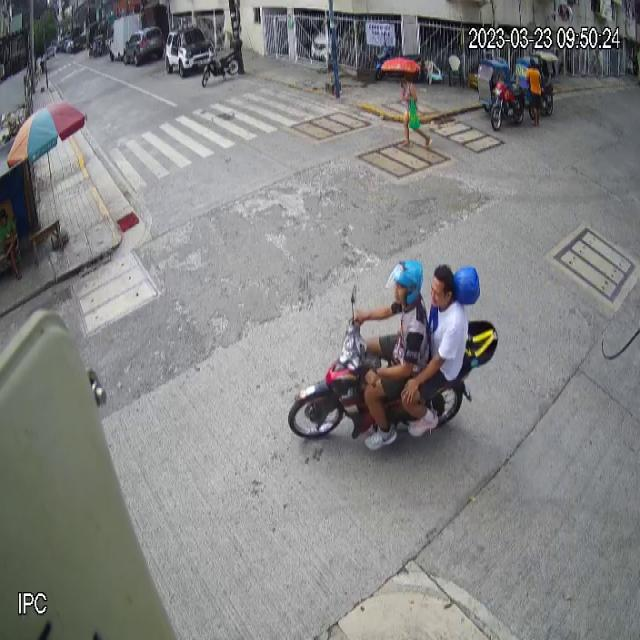Motorcycle: (288, 283, 499, 440)
Tricycle: (476, 58, 524, 130)
